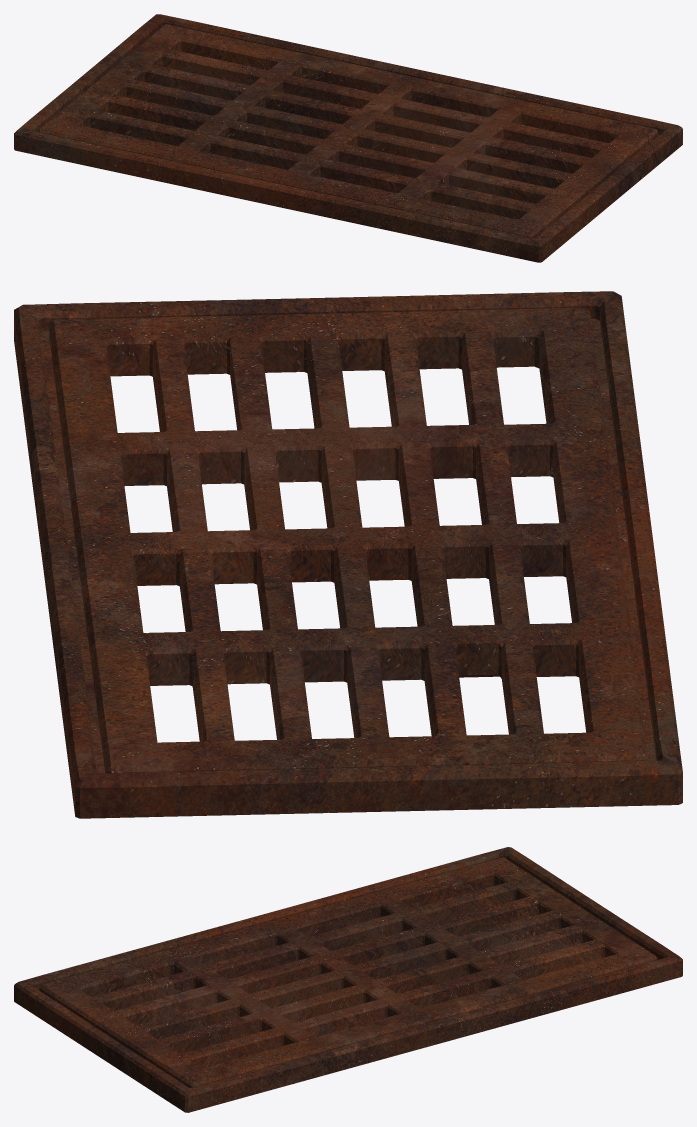
The model's file is trench2.glb.
3 views of the same model, one above another, from view 1: azimuth 30°, elevation 25°; view 2: azimuth 150°, elevation 25°; view 3: azimuth 270°, elevation 25° (orthographic). The views are drawn at different scales.
Parts seen in each view (by area): view 1: StormDrain_StornDrain_shader_0; view 2: StormDrain_StornDrain_shader_0; view 3: StormDrain_StornDrain_shader_0.
Part boxes in pixels (<box>): StormDrain_StornDrain_shader_0: <box>14,14,682,262</box>; StormDrain_StornDrain_shader_0: <box>14,291,682,818</box>; StormDrain_StornDrain_shader_0: <box>14,847,682,1112</box>.
Size of the model in its own units: 1.17 by 0.0409 by 1.33.
Materials: 1 (1 with a texture image).
